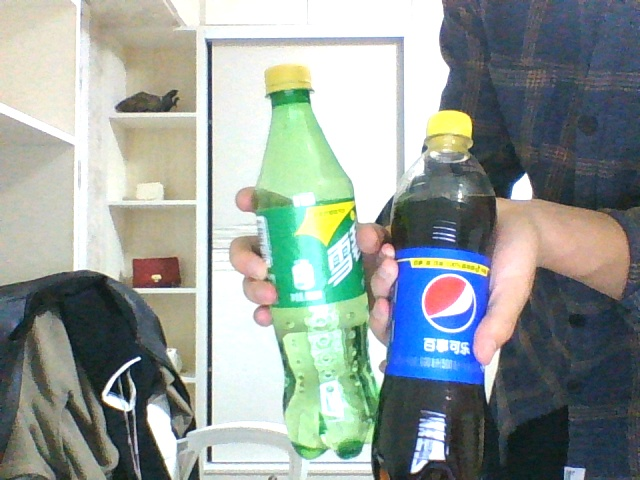Cola: (370, 112, 496, 476)
Sprite: (253, 64, 378, 460)
